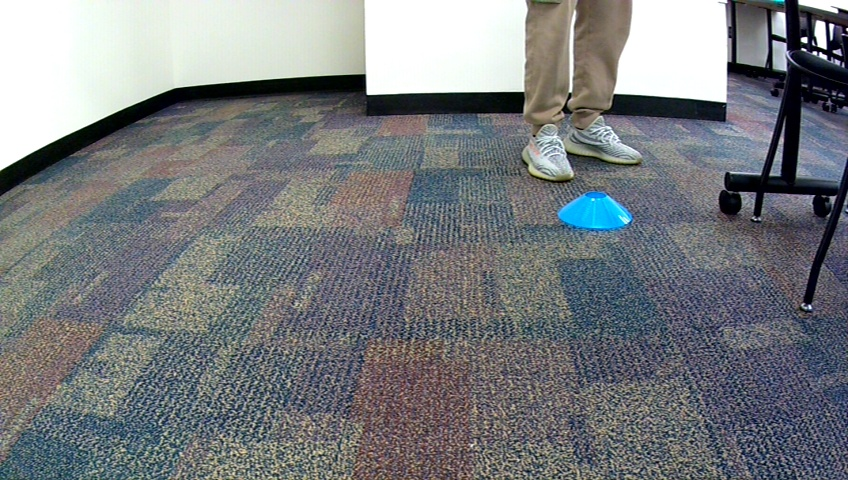cone: (556, 188, 634, 230)
